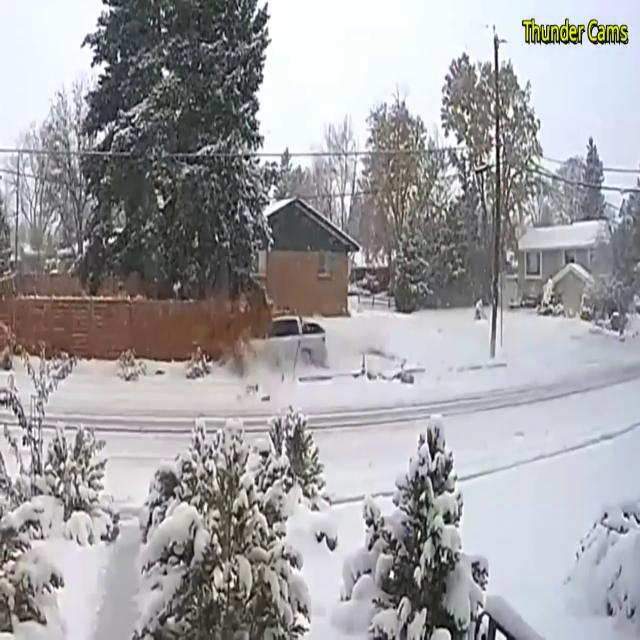accident: (235, 291, 334, 380)
